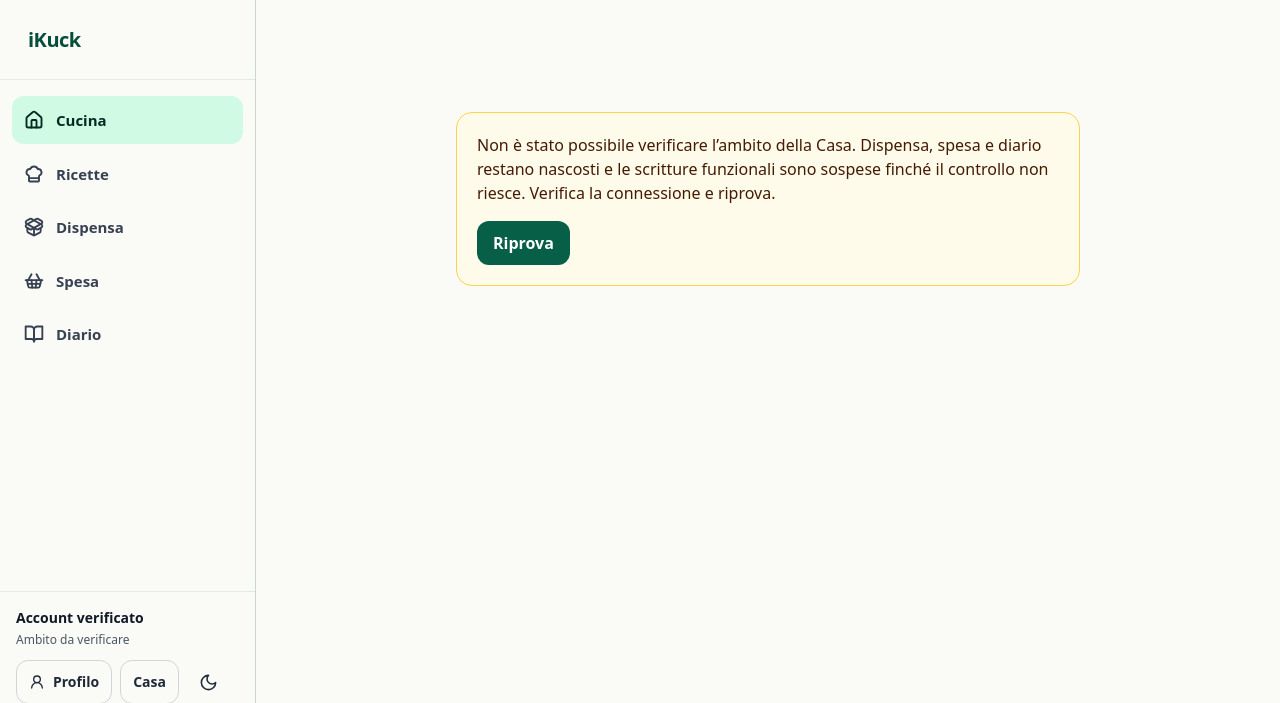
Test: App synchronization lifecycle › keeps verified navigation available and retries a transient House lookup without exposing scoped data
The image size is (1280, 703).
Expected: the message shows "verificare l’ambito della Casa", [477, 134, 1048, 204]
Expected: the navigation bar named "Navigazione principale" is shown, [0, 96, 255, 358]
Click the button "Riprova". click: (523,243)
box: [477, 221, 570, 265]
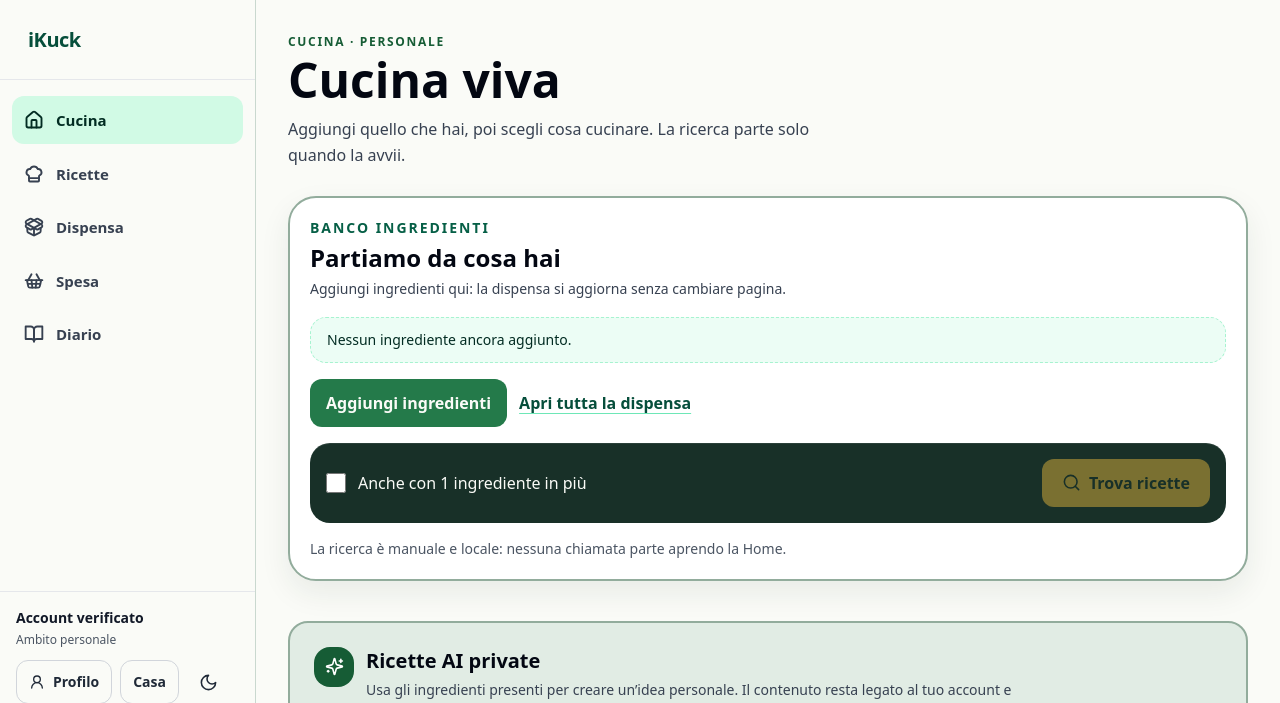
Now the heading "Cucina viva" is shown, box [288, 47, 561, 112]
